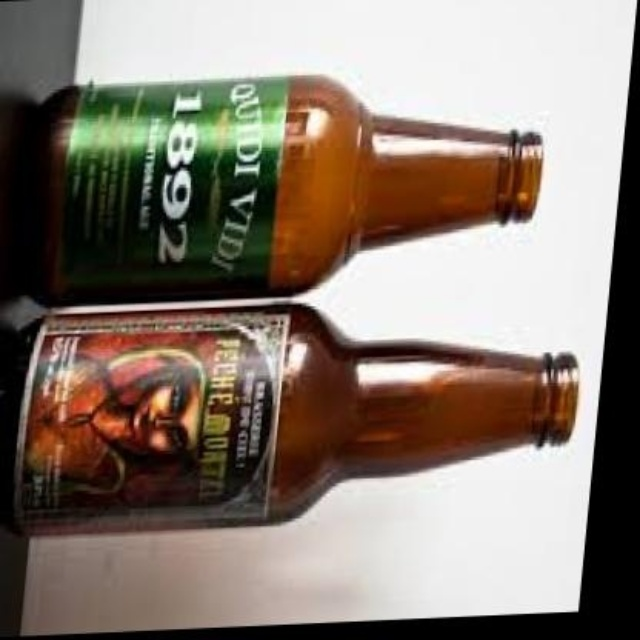trash: (15, 305, 577, 532), (48, 75, 542, 300)
